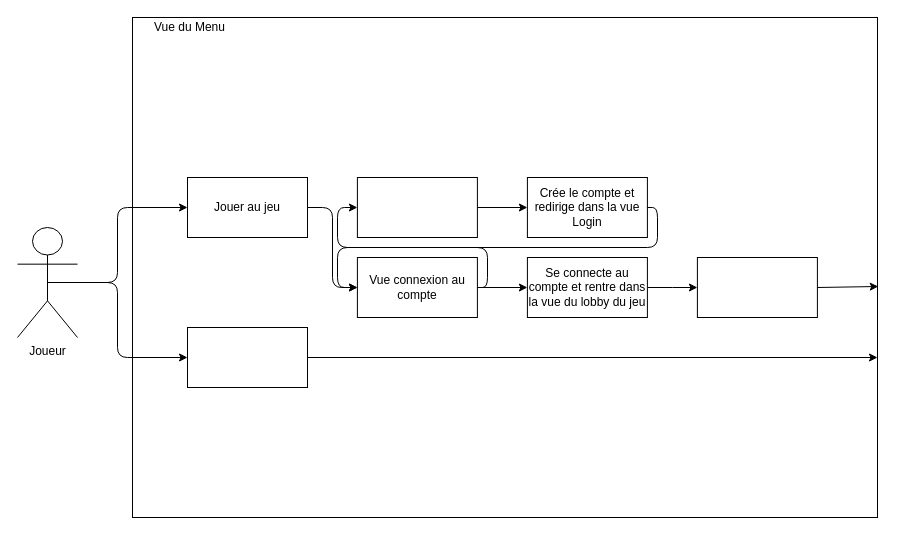
Image size: 904x535. Some labels were removed from this diagram. Here are the shapes that lost their labels. From the top down, the centre of each, then its label:
At pixel 416 207: "Vue création de compte".
At pixel 756 287: "Vue du lobby".
At pixel 247 357: "Quitter le jeu".
